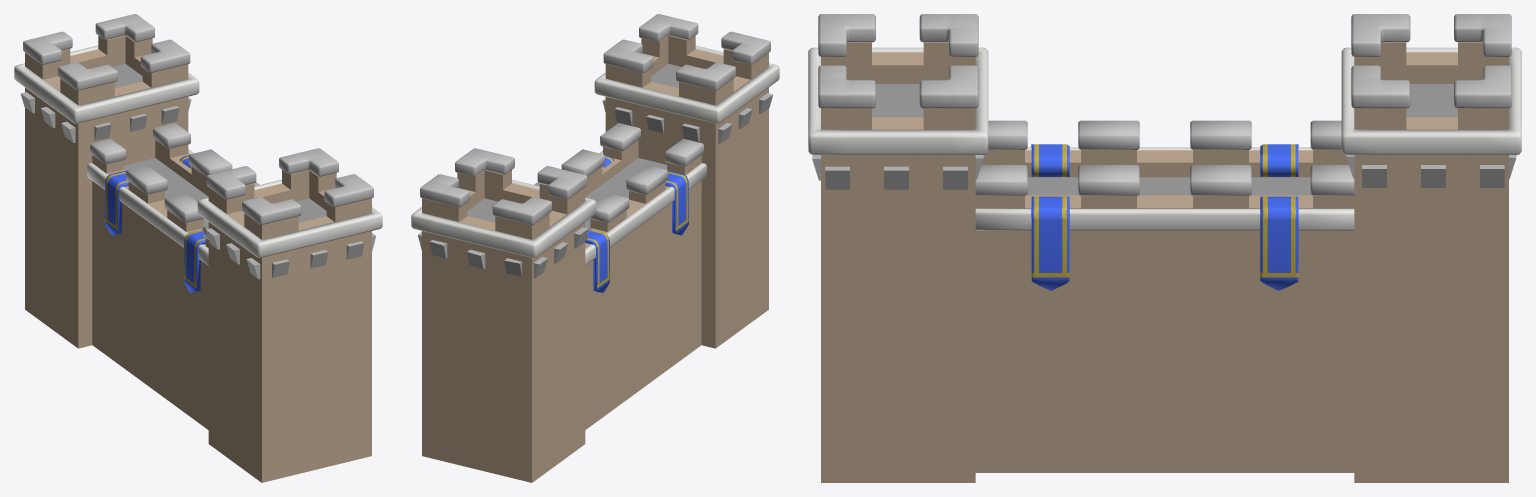
Rendered from NEW CASTLEEE 3.fbx.
3 views of the same model, side by side, from view 1: azimuth 30°, elevation 25°; view 2: azimuth 150°, elevation 25°; view 3: azimuth 270°, elevation 25° (orthographic). The views are drawn at different scales.
Parts seen in each view (by area): view 1: Cube, BAYDAK; view 2: Cube, BAYDAK; view 3: Cube, BAYDAK.
Boxes of the visible parts, <box> form: Cube: <box>14,14,382,482</box>; BAYDAK: <box>105,155,205,292</box>; Cube: <box>411,14,779,482</box>; BAYDAK: <box>585,155,688,292</box>; Cube: <box>808,14,1521,482</box>; BAYDAK: <box>1031,144,1298,290</box>.
Bounding box in the file's own units: 9.76 × 20.03 × 33.14.
